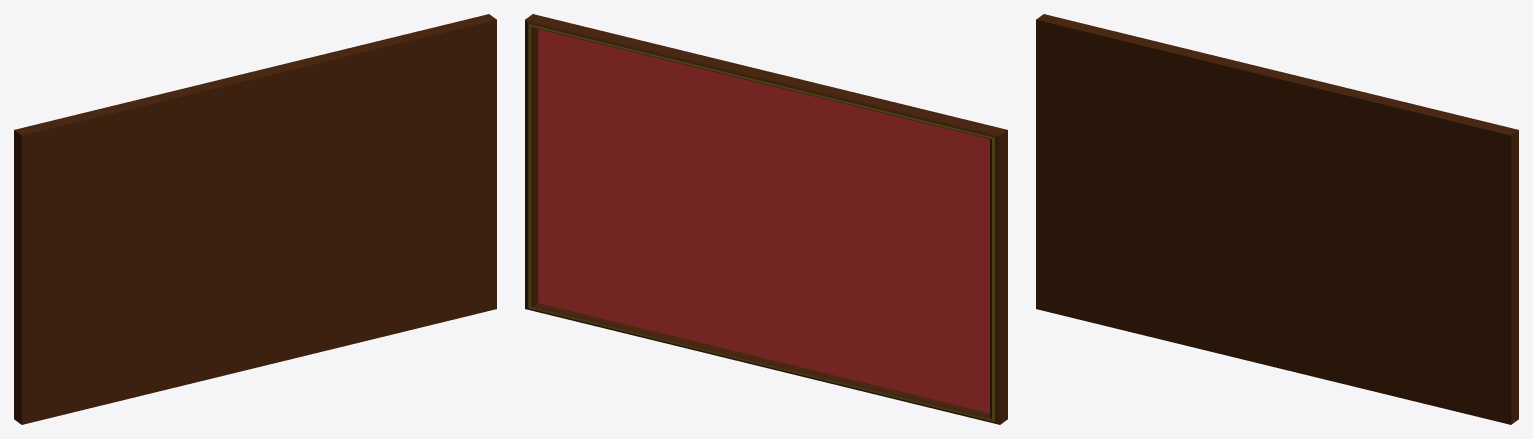
File: simple_grande.fbx
3 views of the same model, side by side, from view 1: azimuth 30°, elevation 25°; view 2: azimuth 150°, elevation 25°; view 3: azimuth 330°, elevation 25° (orthographic).
Visible parts, largest first — view 1: Cuadro_simple; view 2: Cuadro_simple.001, Cuadro_simple; view 3: Cuadro_simple.
Boxes of the visible parts, x1=… form: Cuadro_simple: x1=14, y1=14, x2=496, y2=424; Cuadro_simple.001: x1=538, y1=29, x2=989, y2=412; Cuadro_simple: x1=525, y1=14, x2=1007, y2=424; Cuadro_simple: x1=1036, y1=14, x2=1518, y2=424.
Bounding box in the file's own units: 1429 × 832 × 46.01.
